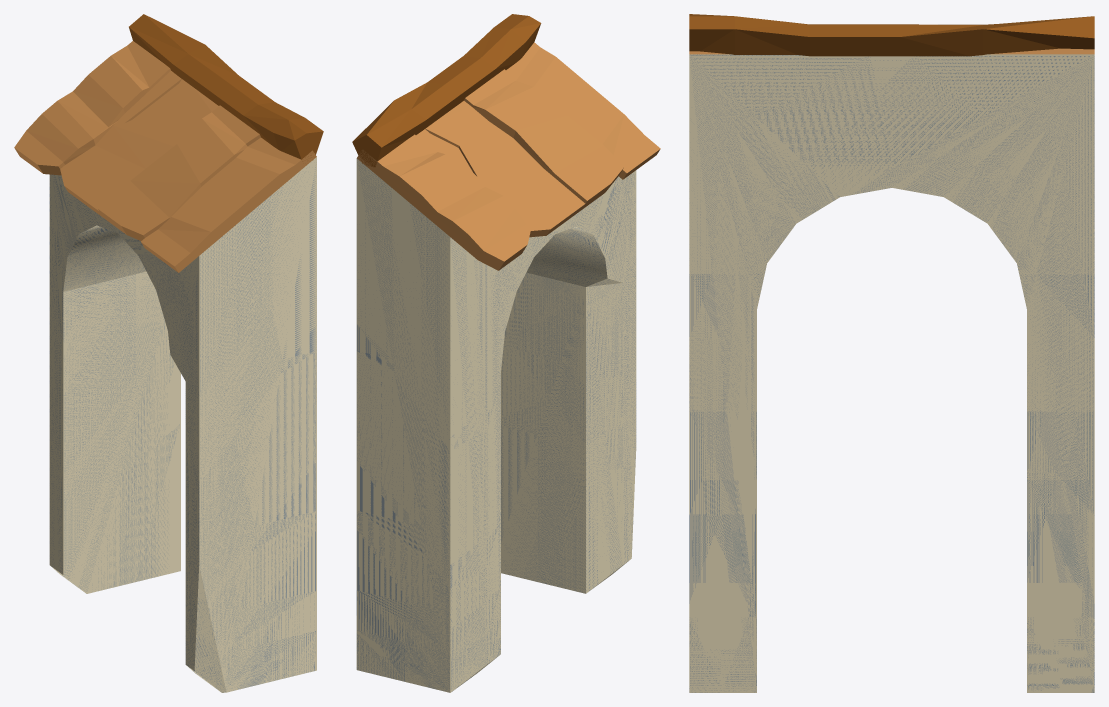
Rendered from Arc.fbx.
The picture shows the model from 3 angles, left to right: view 1: azimuth 30°, elevation 25°; view 2: azimuth 150°, elevation 25°; view 3: azimuth 270°, elevation 25°; orthographic projection. The views are drawn at different scales.
Visible parts, largest first — view 1: Ark1, ArcRoof1, G_18_1; view 2: Ark1, ArcRoof1, G_18_1; view 3: Ark1, G_18_1.
Boxes of the visible parts, bbox=[...] form: Ark1: bbox=[49, 157, 316, 692]; ArcRoof1: bbox=[14, 41, 316, 272]; G_18_1: bbox=[129, 14, 323, 161]; Ark1: bbox=[356, 158, 636, 692]; ArcRoof1: bbox=[357, 42, 660, 270]; G_18_1: bbox=[352, 14, 541, 167]; Ark1: bbox=[689, 54, 1094, 692]; G_18_1: bbox=[689, 14, 1094, 56].
Size of the model in its own units: 641 by 2191 by 1200.
